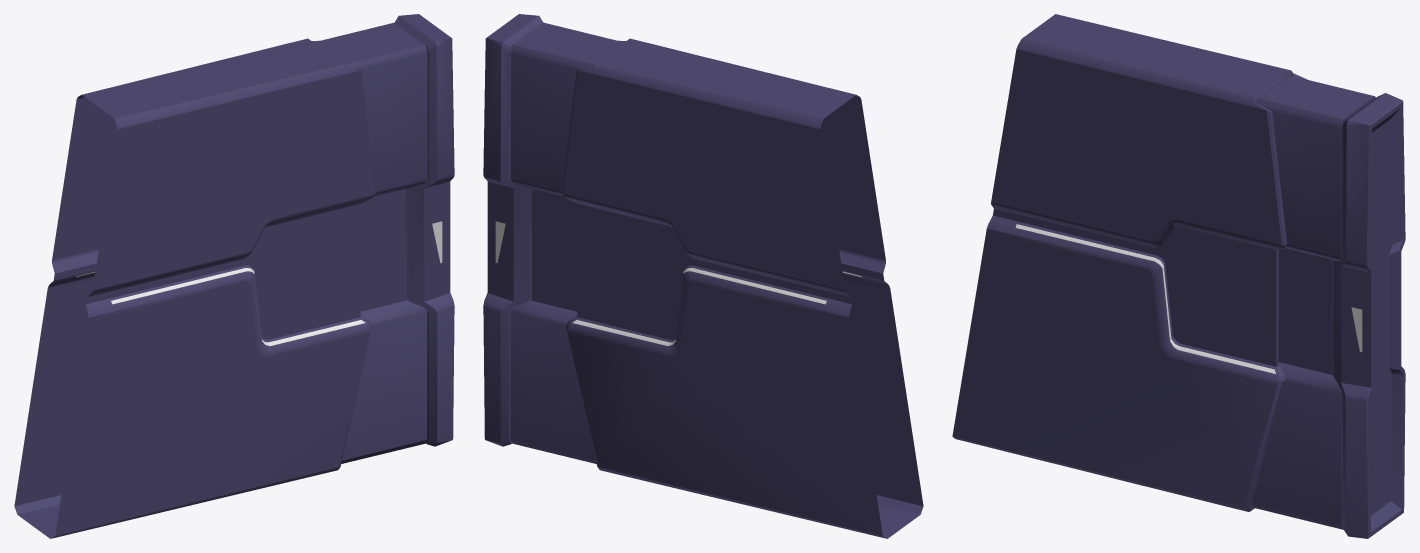
File: Mh_Door_01.fbx
3 renders of one model, left to right at view 1: azimuth 30°, elevation 25°; view 2: azimuth 150°, elevation 25°; view 3: azimuth 330°, elevation 25°, orthographic. The views are drawn at different scales.
Visible parts, largest first — view 1: Mh_Door_01; view 2: Mh_Door_01; view 3: Mh_Door_01.
Part boxes in pixels (bbox=[...]): Mh_Door_01: bbox=[14, 14, 454, 538]; Mh_Door_01: bbox=[483, 14, 923, 538]; Mh_Door_01: bbox=[952, 14, 1405, 538].
Bounding box in the file's own units: 288 × 276 × 50.42.
